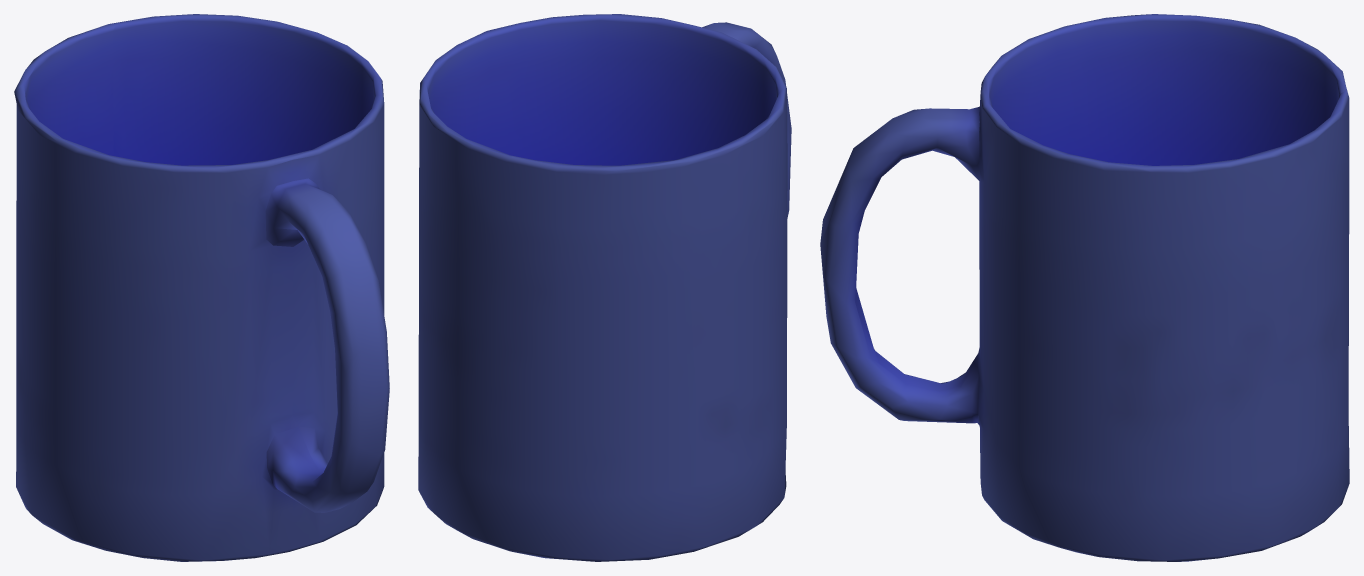
Rendered from SM_Kitchen_Set05a.fbx.
The picture shows the model from 3 angles, left to right: view 1: azimuth 30°, elevation 25°; view 2: azimuth 150°, elevation 25°; view 3: azimuth 270°, elevation 25°; orthographic projection.
Parts seen in each view (by area): view 1: SM_Kitchen_Set05a_LOD0; view 2: SM_Kitchen_Set05a_LOD0; view 3: SM_Kitchen_Set05a_LOD0.
Boxes of the visible parts, left/top/right/bottom form: SM_Kitchen_Set05a_LOD0: left=14, top=14, right=389, bottom=561; SM_Kitchen_Set05a_LOD0: left=418, top=14, right=791, bottom=561; SM_Kitchen_Set05a_LOD0: left=820, top=14, right=1349, bottom=561.
Bounding box in the file's own units: 7.97 × 11.35 × 9.36.
